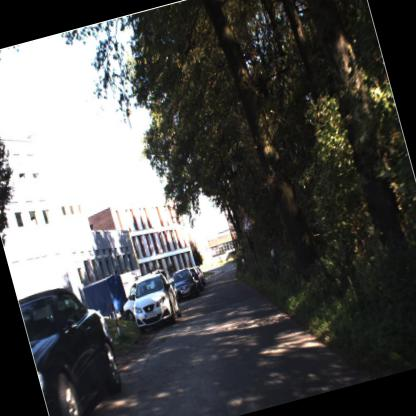danger: (236, 210, 256, 237)
